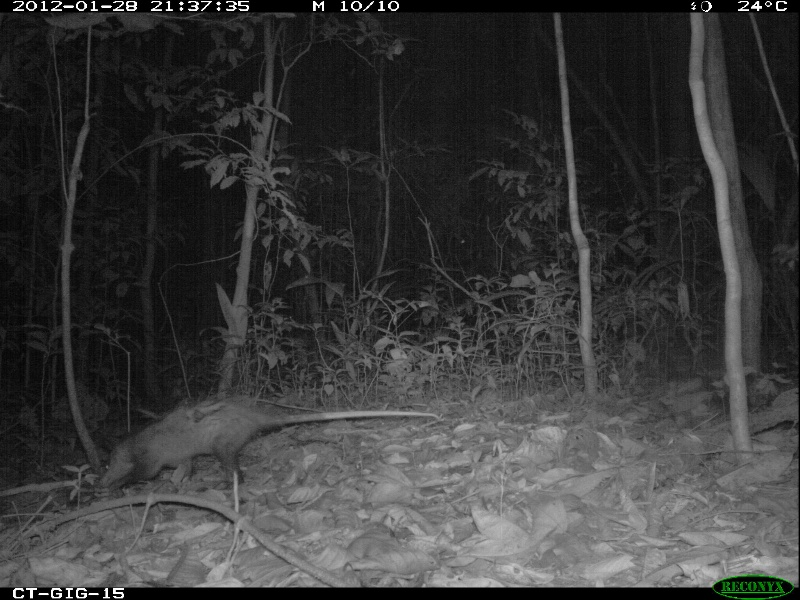opossum: (96, 389, 444, 504)
